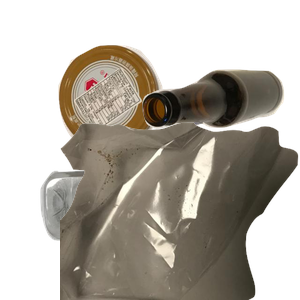glass: (140, 67, 300, 188)
metal: (56, 43, 211, 187)
plastic: (38, 165, 255, 300)
trash: (60, 120, 300, 300)
